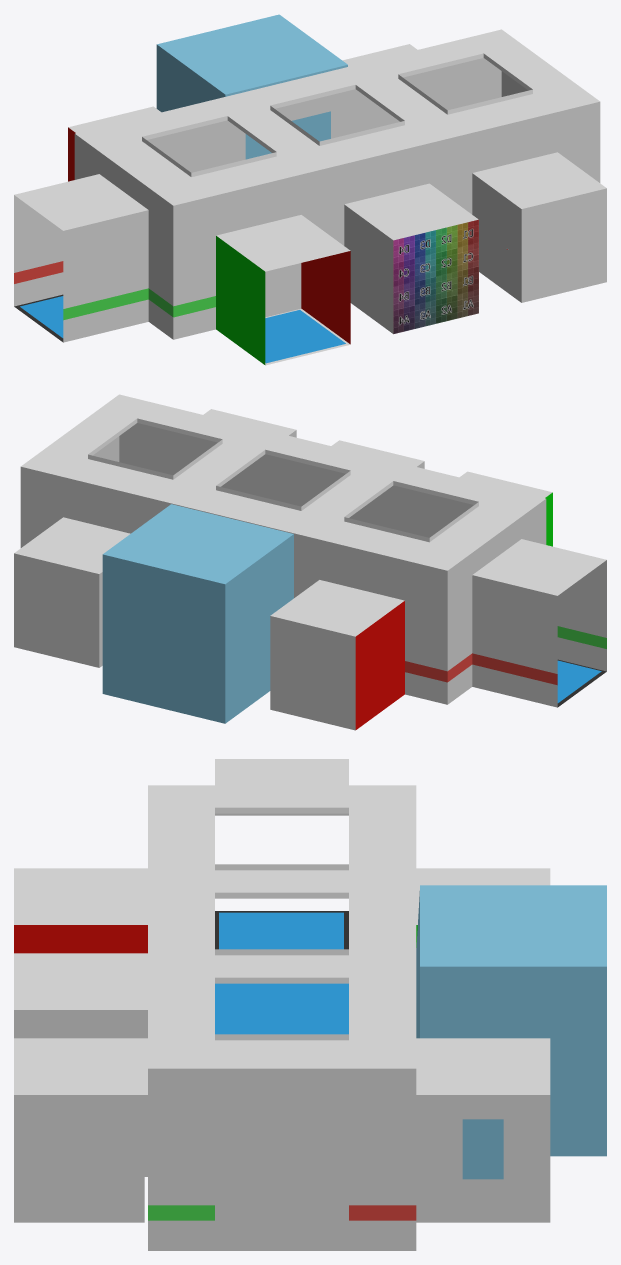
Rendered from Area5Gallery.fbx.
3 renders of one model, top to bottom at view 1: azimuth 30°, elevation 25°; view 2: azimuth 150°, elevation 25°; view 3: azimuth 270°, elevation 25°, orthographic. The views are drawn at different scales.
Parts seen in each view (by area): view 1: Area5Env, gB waterRoom checkered, gB sky barrier, gB shinyspheres backwall, gB shinyspheres, gB motionblur rightwall, Telesurf5, gB shinyspheres rightlight, Area5_barriers, gB motionblur leftwall, gB motionblur lamp, gB waterRoom light (+5 smaller); view 2: Area5Env, gB sky barrier, gB smallLight, gB cornell, gB cornell redwall, gB cornell lamp, Area5_barriers, Telesurf5, gB shinyspheres, gB motionblur lamp, gB waterRoom light; view 3: Area5Env, gB sky barrier, gB smallLight, gB waterRoom checkered, Telesurf5, gB shinyspheres, gB motionblur lamp, gB waterRoom light, gB motionblur leftwall, gB shinyspheres leftlight, gB smallLight sky, gB cornell lamp (+3 smaller).
Part boxes in pixels (bbox=[...]): Area5Env: bbox=[14, 29, 600, 342]; gB waterRoom checkered: bbox=[472, 173, 606, 302]; gB sky barrier: bbox=[156, 14, 347, 112]; gB shinyspheres backwall: bbox=[393, 219, 478, 334]; gB shinyspheres: bbox=[344, 183, 478, 333]; gB motionblur rightwall: bbox=[216, 236, 265, 364]; Telesurf5: bbox=[20, 296, 345, 363]; gB shinyspheres rightlight: bbox=[346, 211, 390, 327]; Area5_barriers: bbox=[163, 80, 458, 317]; gB motionblur leftwall: bbox=[301, 251, 350, 344]; gB motionblur lamp: bbox=[223, 217, 343, 268]; gB waterRoom light: bbox=[479, 155, 599, 206]; Area5Env: bbox=[20, 394, 606, 707]; gB sky barrier: bbox=[102, 504, 293, 723]; gB smallLight: bbox=[14, 517, 130, 667]; gB cornell: bbox=[270, 580, 404, 730]; gB cornell redwall: bbox=[355, 601, 404, 729]; gB cornell lamp: bbox=[277, 582, 397, 633]; Area5_barriers: bbox=[162, 445, 457, 537]; Telesurf5: bbox=[557, 660, 601, 702]; gB shinyspheres: bbox=[331, 440, 424, 468]; gB motionblur lamp: bbox=[464, 474, 545, 496]; gB waterRoom light: bbox=[208, 412, 289, 434]; Area5Env: bbox=[148, 759, 416, 1250]; gB sky barrier: bbox=[416, 885, 606, 1156]; gB smallLight: bbox=[416, 1038, 550, 1222]; gB waterRoom checkered: bbox=[14, 1095, 147, 1222]; Telesurf5: bbox=[215, 912, 348, 1034]; gB shinyspheres: bbox=[14, 953, 147, 1038]; gB motionblur lamp: bbox=[20, 871, 141, 922]; gB waterRoom light: bbox=[20, 1041, 141, 1092]; gB motionblur leftwall: bbox=[14, 925, 147, 953]; gB shinyspheres leftlight: bbox=[20, 1016, 141, 1038]; gB smallLight sky: bbox=[462, 1119, 503, 1179]; gB cornell lamp: bbox=[423, 871, 543, 885].
Size of the model in its own units: 1200 by 321 by 885.
